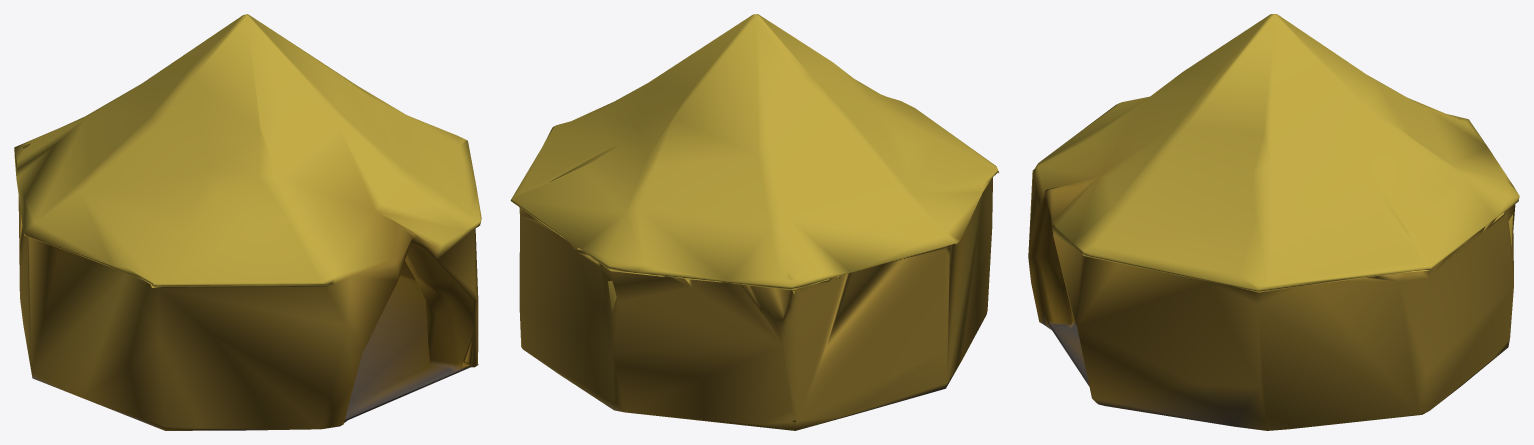
File: gen3d-bedouin-tent-lod1.glb
3 views of the same model, side by side, from view 1: azimuth 30°, elevation 25°; view 2: azimuth 150°, elevation 25°; view 3: azimuth 270°, elevation 25° (orthographic).
Visible parts, largest first — view 1: part_0; view 2: part_0; view 3: part_0.
Boxes of the visible parts, bbox=[...] form: part_0: bbox=[14, 14, 481, 430]; part_0: bbox=[510, 14, 999, 430]; part_0: bbox=[1028, 14, 1519, 430].
Bounding box in the file's own units: 1.38 × 0.9952 × 1.38.
